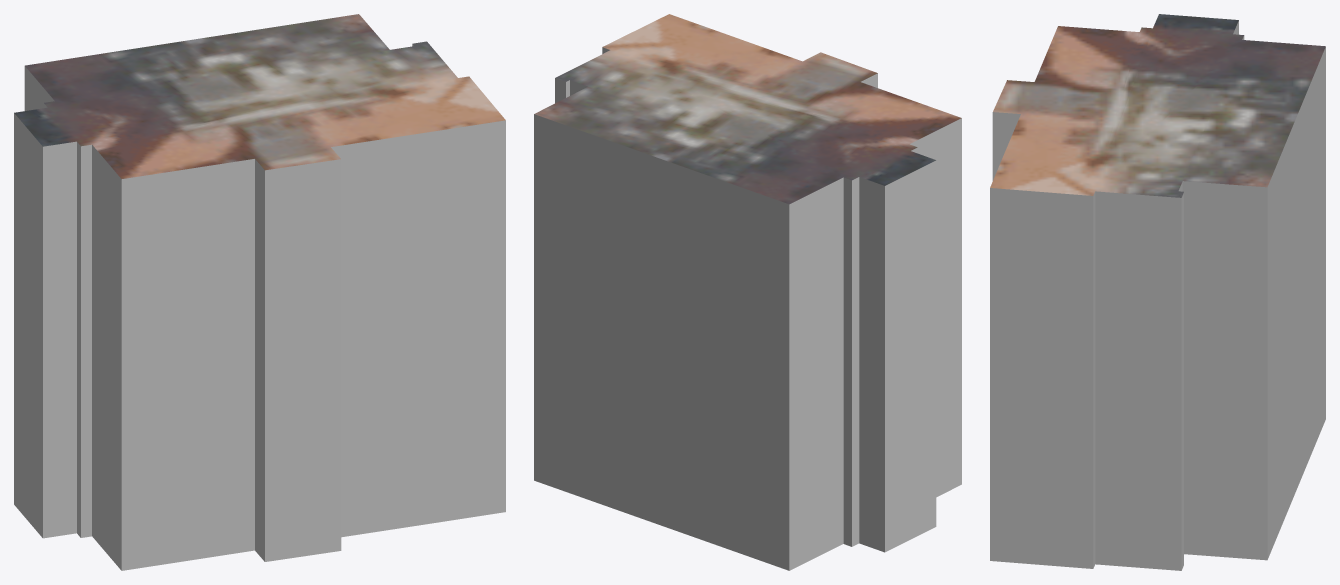
Rendered from DEBW_0010007TxaX.gltf.
The picture shows the model from 3 angles, left to right: view 1: azimuth 30°, elevation 25°; view 2: azimuth 150°, elevation 25°; view 3: azimuth 270°, elevation 25°; orthographic projection. The views are drawn at different scales.
Visible parts, largest first — view 1: Z_UP; view 2: Z_UP; view 3: Z_UP.
Boxes of the visible parts, <box> form: Z_UP: <box>14,14,505,570</box>; Z_UP: <box>534,14,961,570</box>; Z_UP: <box>990,14,1325,570</box>.
Size of the model in its own units: 19.06 by 18.02 by 14.71.
Materials: 2 (1 with a texture image).
